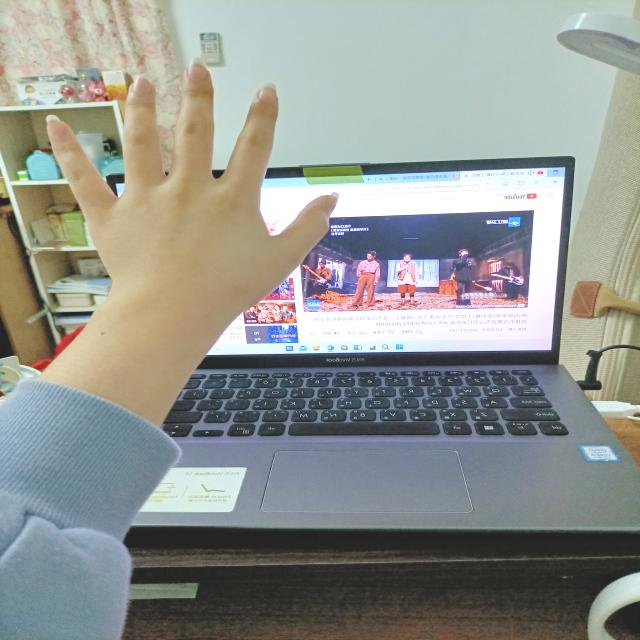no_glove: (29, 45, 349, 342)
